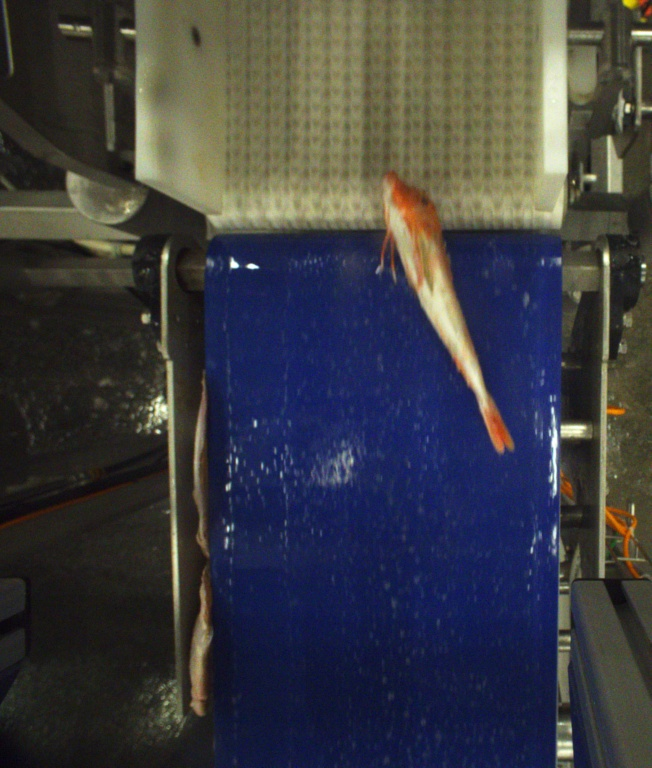GUU: (378, 165, 514, 454)
